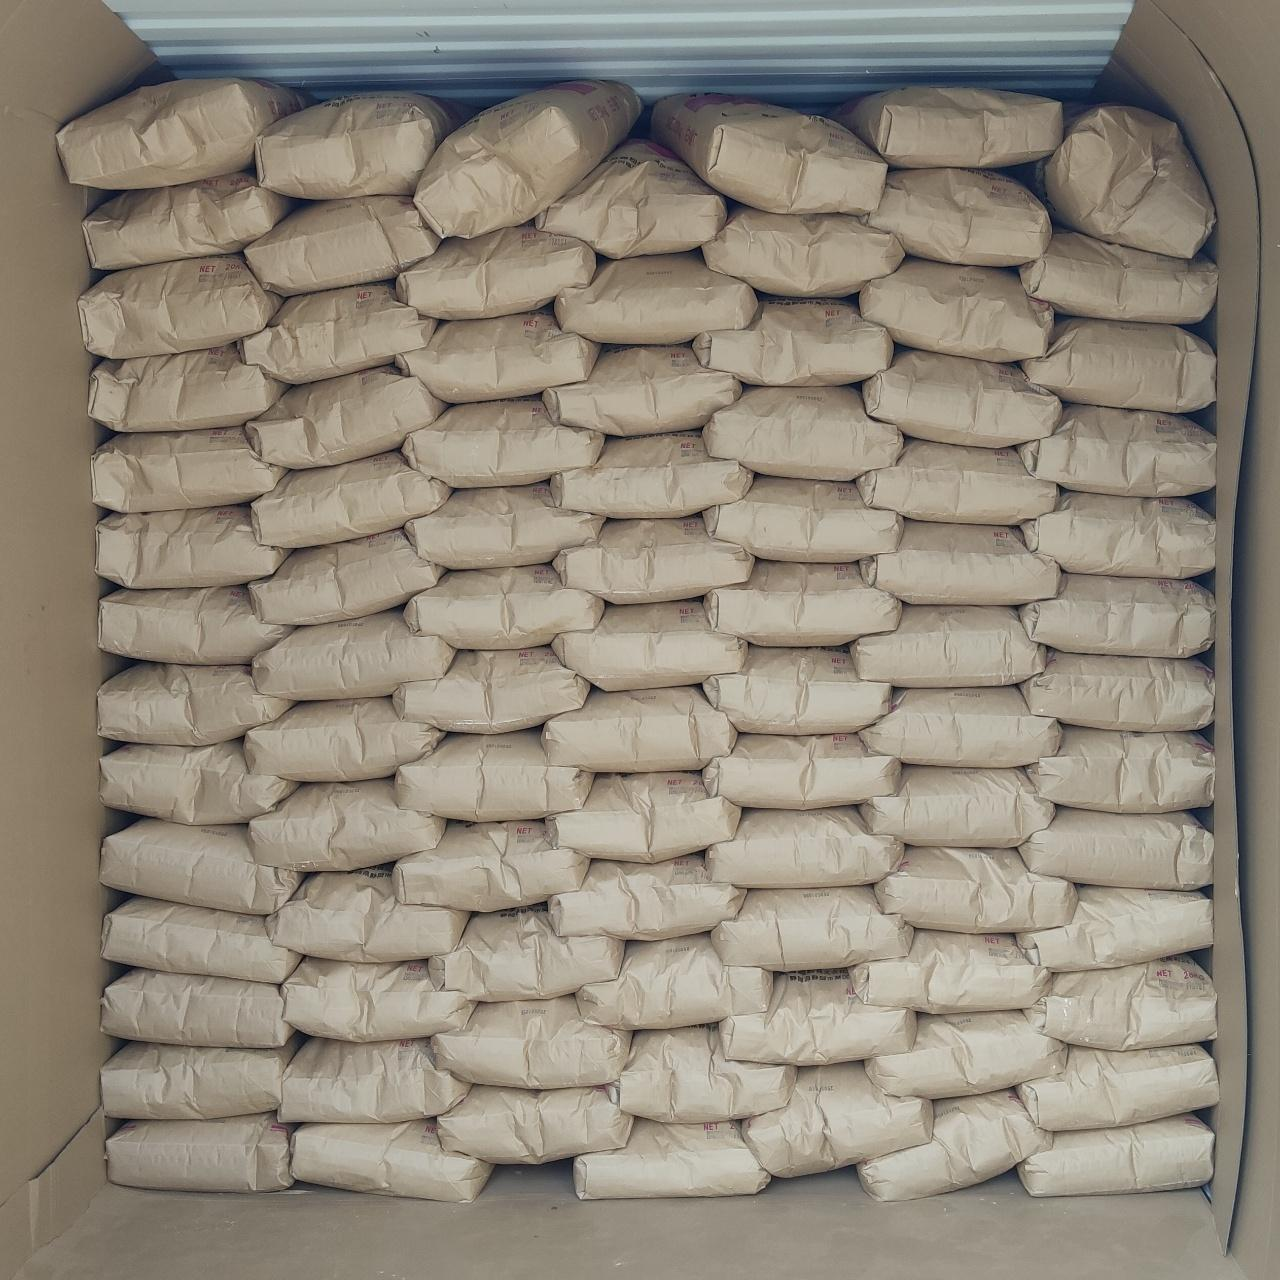sack: (414, 82, 636, 237), (652, 94, 885, 215), (57, 79, 306, 189), (1043, 104, 1212, 257), (536, 139, 726, 258), (256, 91, 458, 199), (742, 1062, 932, 1176), (858, 1091, 1051, 1200), (79, 256, 282, 358), (247, 367, 447, 468), (83, 173, 294, 268), (859, 258, 1053, 361), (241, 281, 436, 383), (245, 196, 440, 297), (101, 818, 302, 913), (554, 250, 757, 343), (703, 386, 903, 481), (252, 452, 451, 547), (267, 870, 469, 964), (397, 223, 595, 318), (863, 350, 1061, 445), (1020, 229, 1217, 324), (1019, 316, 1216, 411), (433, 994, 632, 1088), (577, 934, 772, 1029), (395, 312, 598, 403), (864, 1007, 1067, 1098), (862, 168, 1051, 265), (835, 86, 1062, 166), (720, 972, 915, 1065), (701, 206, 904, 297), (253, 610, 455, 700), (607, 1026, 796, 1122), (543, 345, 741, 436), (250, 531, 444, 624), (1019, 404, 1216, 496), (396, 729, 593, 821), (393, 821, 588, 912), (403, 397, 604, 486), (431, 907, 624, 1000), (551, 600, 747, 690), (250, 779, 445, 870), (89, 343, 287, 433), (876, 845, 1076, 932), (552, 433, 753, 518), (1017, 1046, 1218, 1131), (1032, 956, 1217, 1049), (393, 646, 590, 733), (404, 564, 604, 649), (547, 772, 738, 862), (554, 517, 753, 602), (103, 898, 301, 983), (712, 886, 912, 971), (542, 686, 736, 772), (406, 483, 602, 568), (100, 737, 297, 823), (703, 477, 903, 561), (692, 301, 893, 384), (857, 440, 1058, 523), (1016, 886, 1212, 972), (859, 520, 1060, 604), (549, 855, 745, 939), (245, 697, 444, 781), (91, 427, 285, 512), (851, 930, 1049, 1013), (1021, 492, 1214, 577), (291, 1121, 492, 1201), (704, 561, 900, 645), (1028, 726, 1213, 813), (284, 956, 476, 1041), (1020, 574, 1214, 658), (703, 646, 890, 733), (98, 663, 295, 745), (706, 806, 903, 888), (850, 605, 1046, 687), (1019, 1114, 1214, 1196), (279, 1037, 469, 1122), (1017, 806, 1212, 888), (102, 1039, 299, 1119), (859, 687, 1058, 767), (860, 765, 1054, 847), (1021, 651, 1216, 731), (574, 1119, 770, 1199), (97, 506, 290, 587), (100, 585, 293, 663), (438, 1085, 633, 1163), (102, 969, 294, 1047), (703, 735, 900, 809), (105, 1114, 292, 1191)
